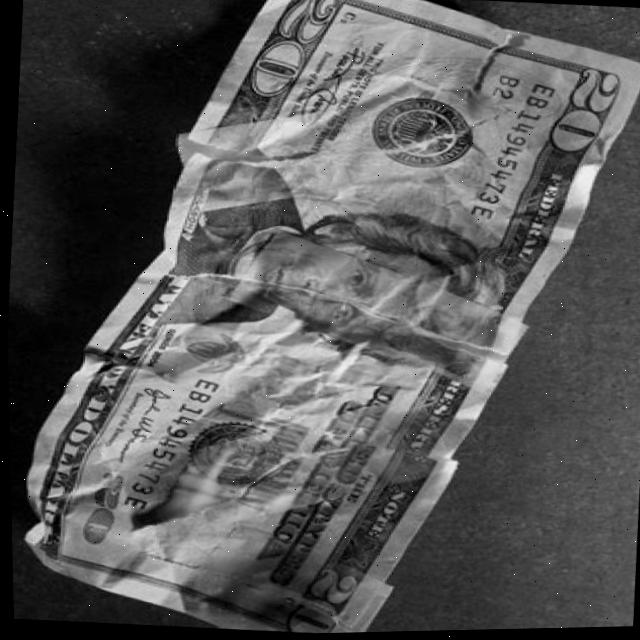banknote: (1, 0, 640, 640), (81, 267, 193, 404), (232, 0, 347, 111), (542, 68, 630, 165), (265, 565, 357, 636), (68, 459, 128, 553)
